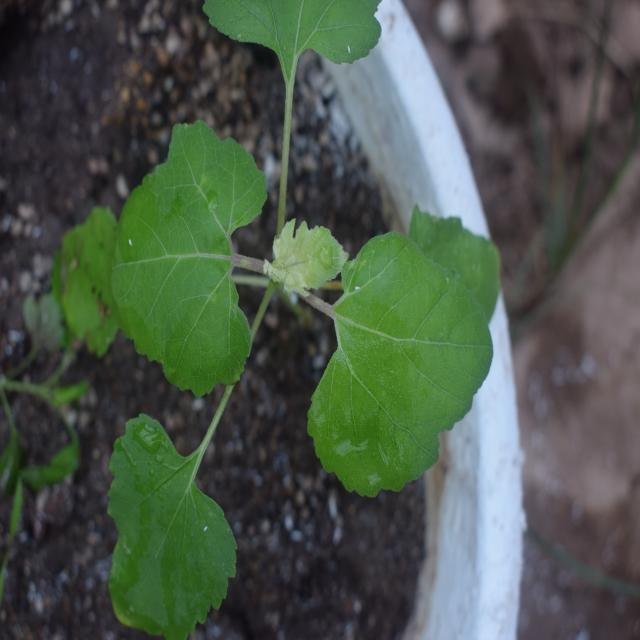cocklebur: (84, 78, 502, 604)
